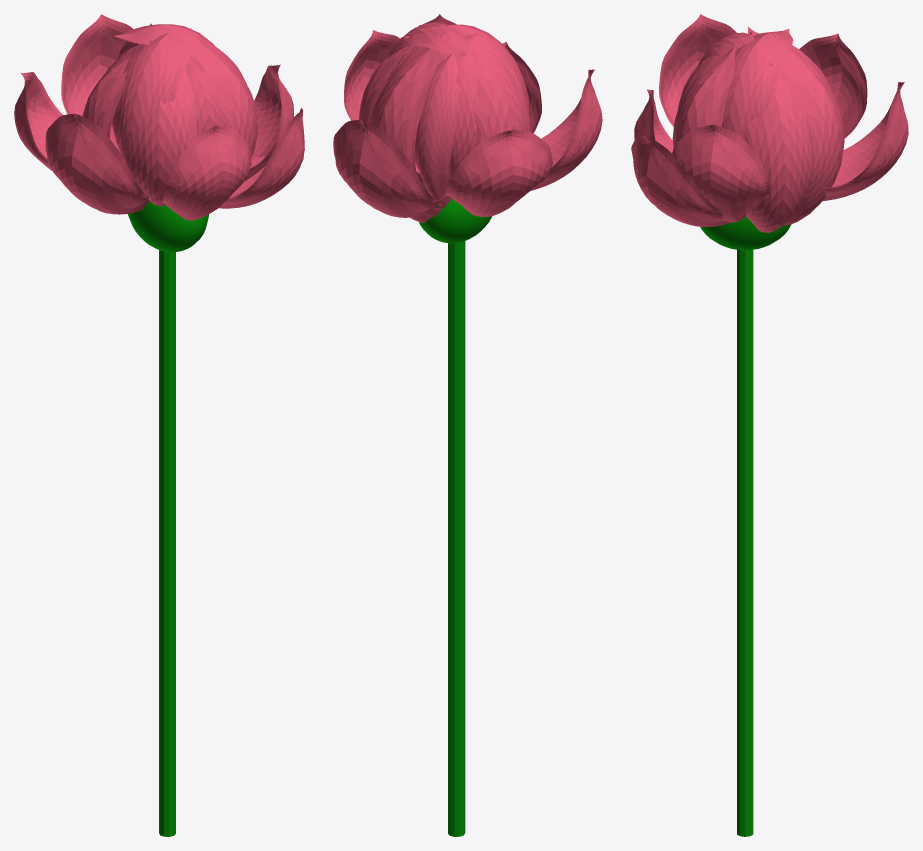
The model's file is Lotus038.fbx.
The picture shows the model from 3 angles, left to right: view 1: azimuth 30°, elevation 25°; view 2: azimuth 150°, elevation 25°; view 3: azimuth 270°, elevation 25°; orthographic projection.
Visible parts, largest first — view 1: pCylinder1, nurbsToPoly11, nurbsToPoly8, nurbsToPoly16, nurbsToPoly21, nurbsToPoly10, nurbsToPoly13, nurbsToPoly24, nurbsToPoly9, pSphere4, nurbsToPoly12, nurbsToPoly14 (+2 smaller); view 2: pCylinder1, nurbsToPoly12, nurbsToPoly10, nurbsToPoly23, nurbsToPoly17, nurbsToPoly14, nurbsToPoly11, nurbsToPoly9, nurbsToPoly20, pSphere4, nurbsToPoly22, nurbsToPoly21 (+2 smaller); view 3: pCylinder1, nurbsToPoly15, nurbsToPoly9, nurbsToPoly17, nurbsToPoly24, nurbsToPoly22, nurbsToPoly10, nurbsToPoly12, nurbsToPoly11, nurbsToPoly13, pSphere4, nurbsToPoly8 (+1 smaller).
Boxes of the visible parts, x1,y1,x2,y2 form: pCylinder1: [159, 250, 175, 836]; nurbsToPoly11: [45, 113, 153, 214]; nurbsToPoly8: [161, 125, 251, 220]; nurbsToPoly16: [122, 69, 197, 206]; nurbsToPoly21: [112, 28, 193, 155]; nurbsToPoly10: [61, 14, 133, 116]; nurbsToPoly13: [193, 33, 257, 157]; nurbsToPoly24: [218, 108, 304, 208]; nurbsToPoly9: [244, 64, 293, 181]; pSphere4: [128, 201, 208, 252]; nurbsToPoly12: [14, 72, 62, 170]; nurbsToPoly14: [82, 40, 151, 137]; pCylinder1: [448, 241, 465, 836]; nurbsToPoly12: [445, 130, 552, 216]; nurbsToPoly10: [333, 120, 446, 217]; nurbsToPoly23: [415, 54, 460, 206]; nurbsToPoly17: [370, 33, 445, 222]; nurbsToPoly14: [464, 31, 530, 149]; nurbsToPoly11: [531, 69, 602, 190]; nurbsToPoly9: [344, 30, 400, 120]; nurbsToPoly20: [437, 54, 477, 178]; pSphere4: [419, 187, 492, 243]; nurbsToPoly22: [388, 22, 470, 57]; nurbsToPoly21: [403, 24, 526, 102]; pCylinder1: [737, 249, 753, 836]; nurbsToPoly15: [741, 76, 813, 232]; nurbsToPoly9: [672, 125, 769, 222]; nurbsToPoly17: [775, 33, 844, 225]; nurbsToPoly24: [631, 135, 732, 226]; nurbsToPoly22: [721, 28, 793, 136]; nurbsToPoly10: [821, 82, 908, 201]; nurbsToPoly12: [799, 33, 867, 138]; nurbsToPoly11: [659, 14, 736, 126]; nurbsToPoly13: [672, 45, 736, 147]; pSphere4: [700, 216, 791, 250]; nurbsToPoly8: [634, 89, 673, 152].
Bounding box in the file's own units: 15.64 × 51.33 × 16.11.
